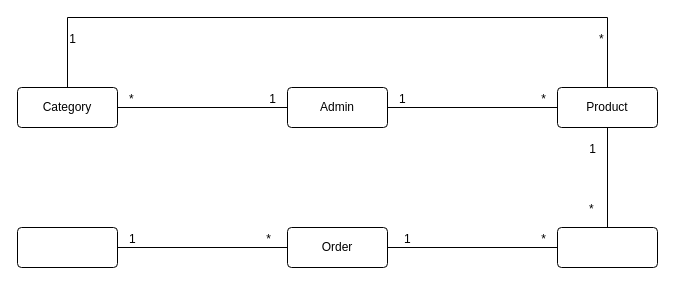
Image size: 675x285. Some labels were removed from this diagram. The shapes that lost their labels are listed below. From the top down, each one's box as (x1, y1, x2, y2) in pixels, then its label:
(16, 226, 118, 268): Customer
(556, 226, 658, 268): ProductOrder
